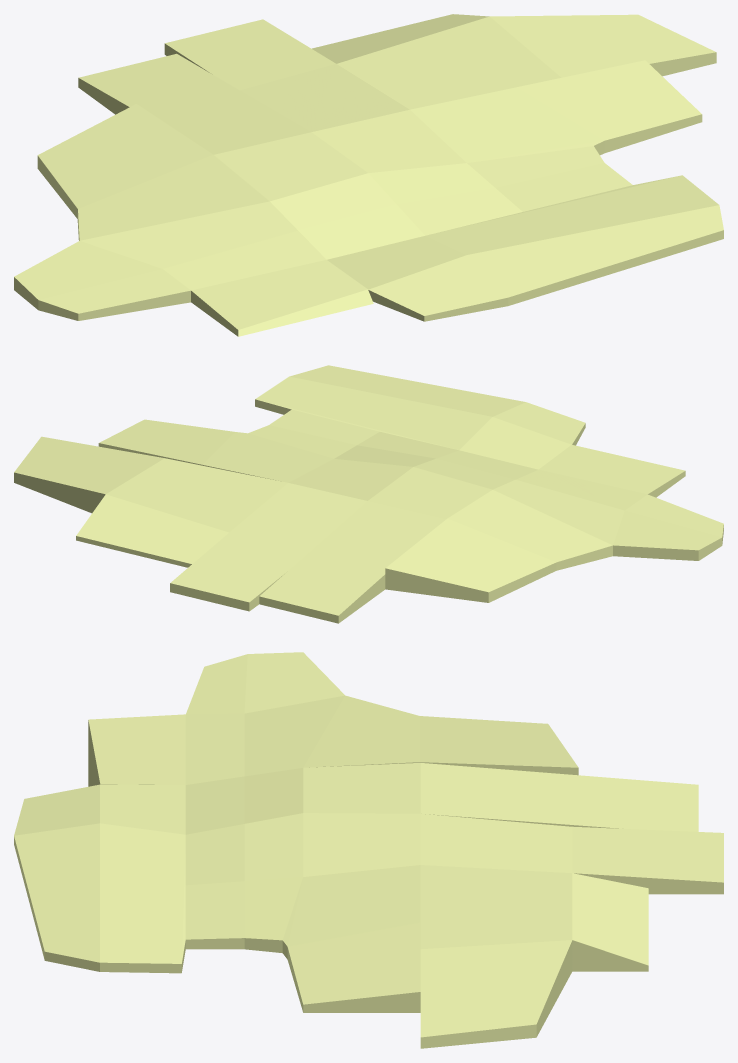
The model's file is lotion.fbx.
The picture shows the model from 3 angles, top to bottom: view 1: azimuth 30°, elevation 25°; view 2: azimuth 150°, elevation 25°; view 3: azimuth 270°, elevation 25°; orthographic projection. The views are drawn at different scales.
Parts seen in each view (by area): view 1: lotion; view 2: lotion; view 3: lotion.
Boxes of the visible parts, x1,y1,x2,y2 form: lotion: (14, 14, 723, 336); lotion: (14, 365, 723, 623); lotion: (14, 652, 723, 1048).
Size of the model in its own units: 774 by 30.78 by 604.
